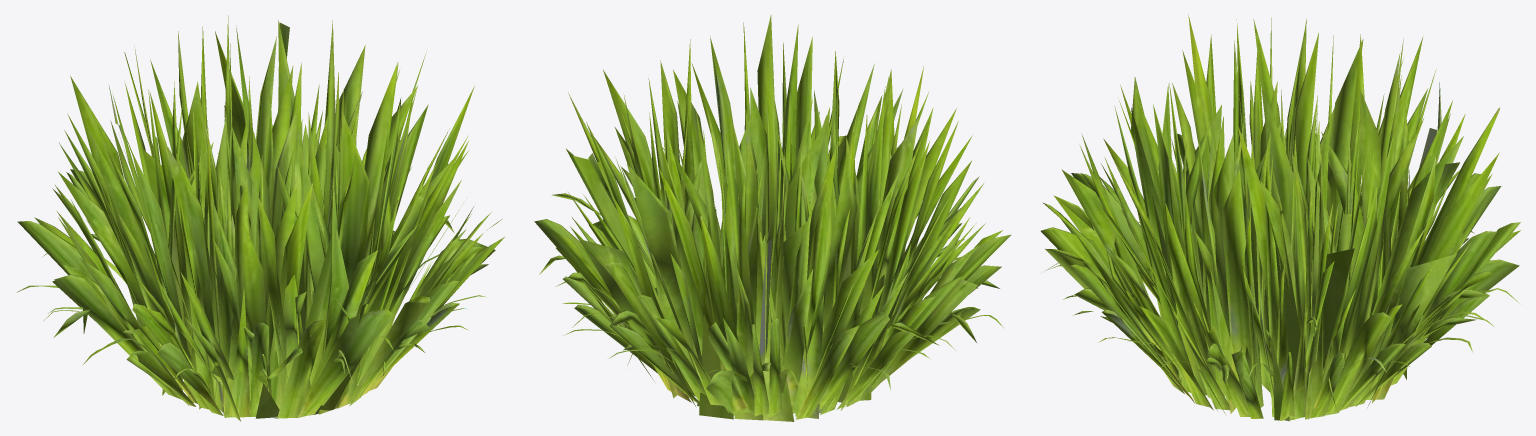
File: tall-grass.glb
The picture shows the model from 3 angles, left to right: view 1: azimuth 30°, elevation 25°; view 2: azimuth 150°, elevation 25°; view 3: azimuth 270°, elevation 25°; orthographic projection. The views are drawn at different scales.
Bounding box in the file's own units: 0.9541 × 0.668 × 0.9374.
1 material, 1 textured.
